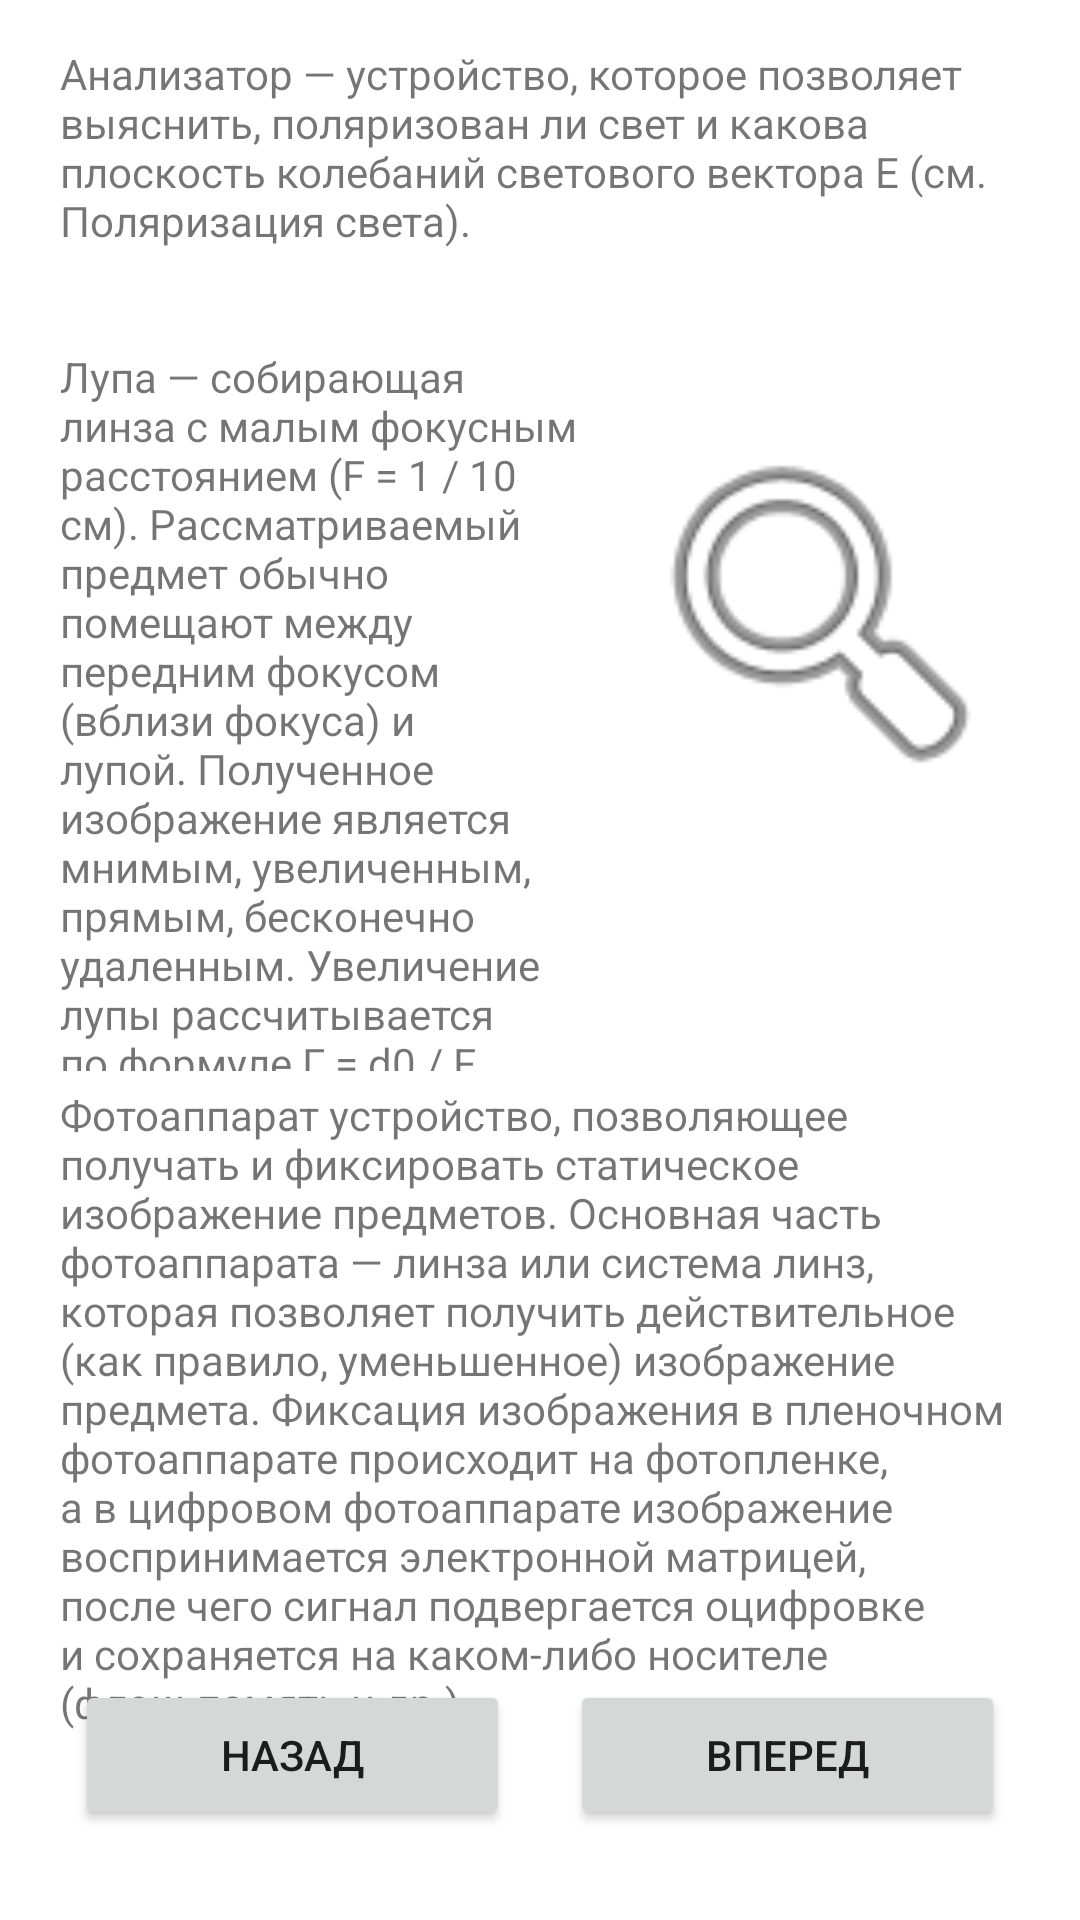

Icons on this 1080 x 1920 Android screen, each with its box as (x1, y1, x2, y2):
search: (672, 466, 968, 762)
